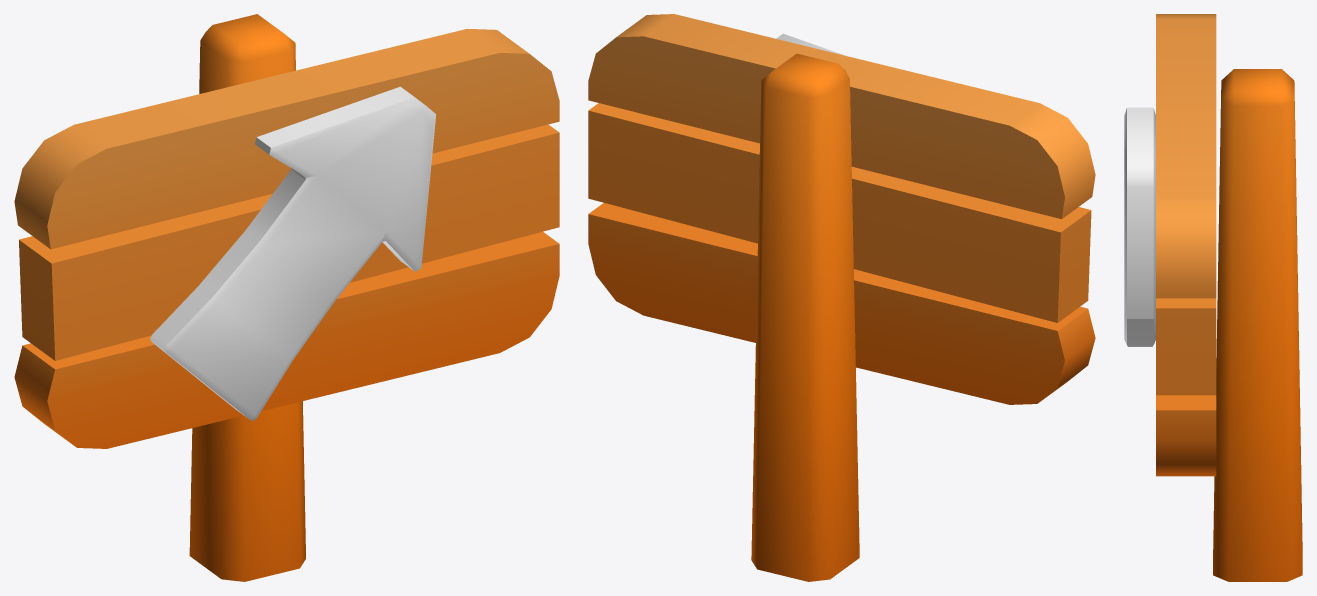
Rendered from Props_Wooden_Sign_06.fbx.
3 renders of one model, left to right at view 1: azimuth 30°, elevation 25°; view 2: azimuth 150°, elevation 25°; view 3: azimuth 270°, elevation 25°, orthographic. The views are drawn at different scales.
Parts seen in each view (by area): view 1: Props_Wooden_Sign_06; view 2: Props_Wooden_Sign_06; view 3: Props_Wooden_Sign_06.
Boxes of the visible parts, box(x1,y1,x2,y2) form: Props_Wooden_Sign_06: box(14, 14, 559, 581); Props_Wooden_Sign_06: box(588, 14, 1095, 581); Props_Wooden_Sign_06: box(1124, 14, 1302, 581).
Bounding box in the file's own units: 90.11 × 88.8 × 29.65.
